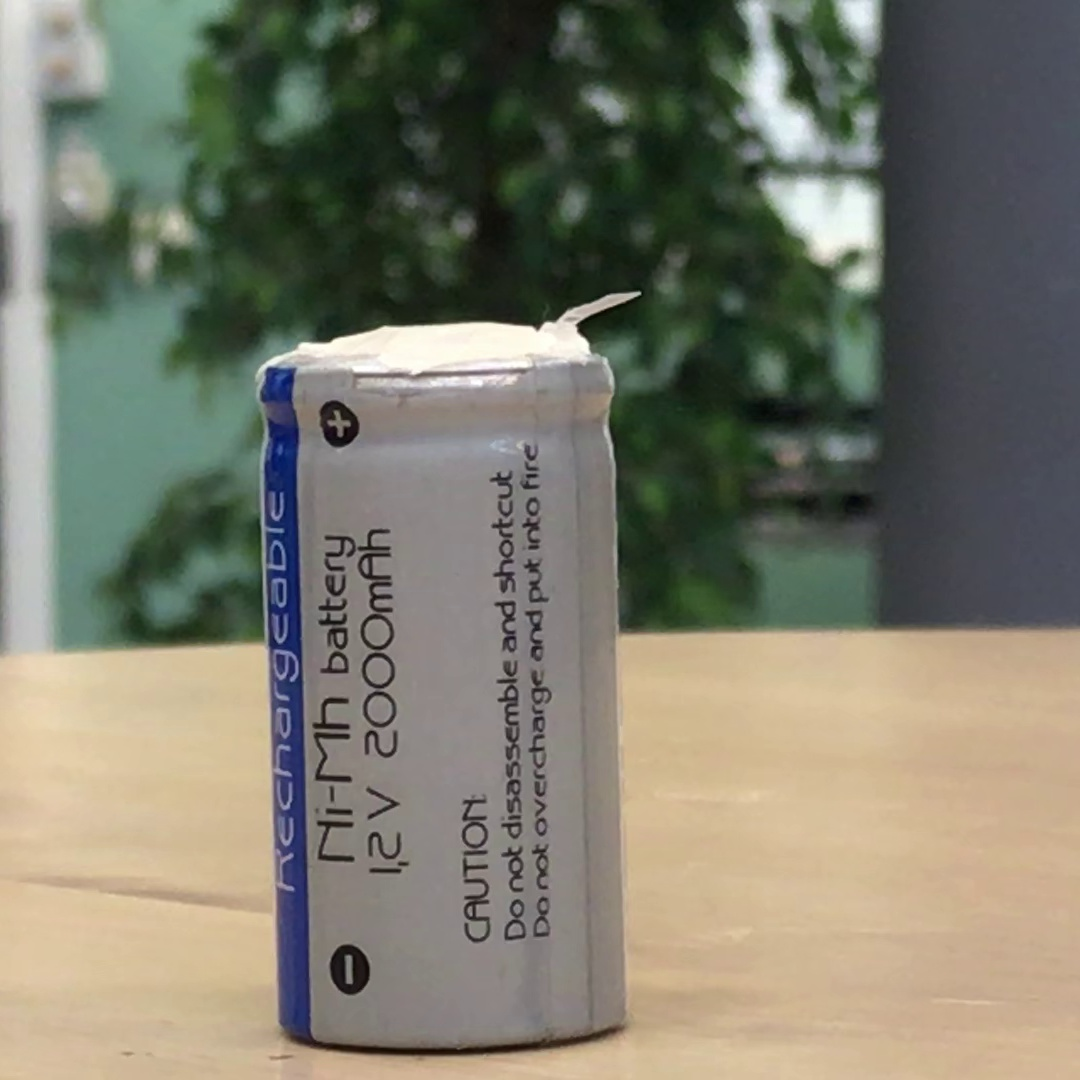keyword: (277, 681, 365, 872)
